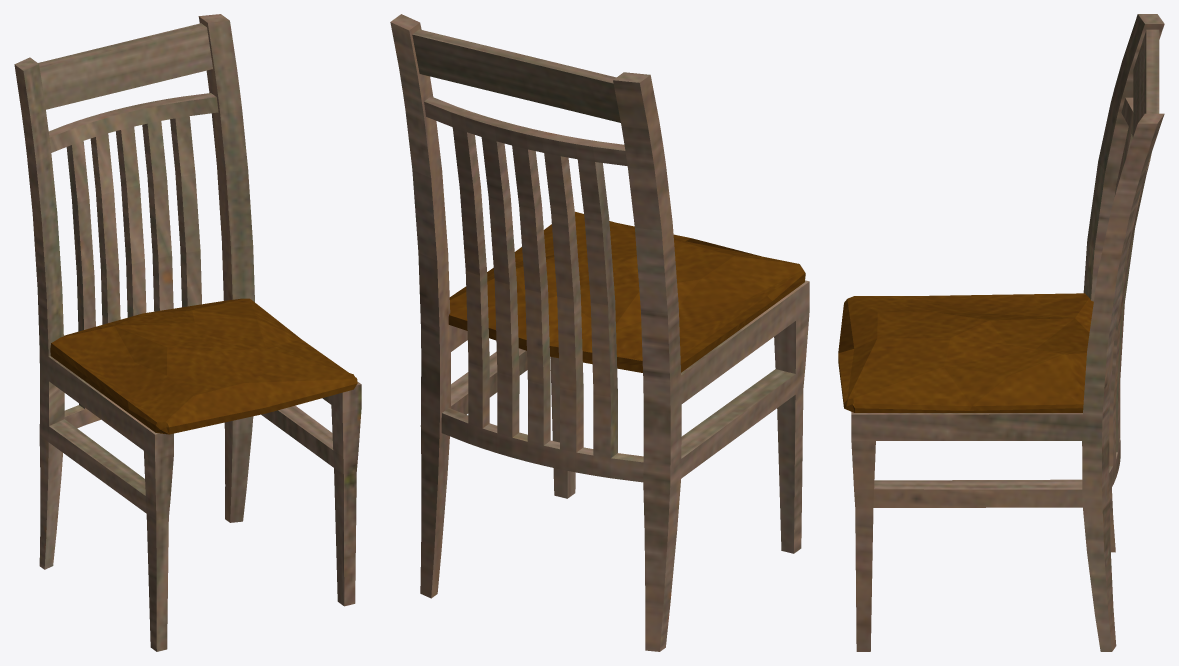
The model's file is Chair4.fbx.
3 views of the same model, side by side, from view 1: azimuth 30°, elevation 25°; view 2: azimuth 150°, elevation 25°; view 3: azimuth 270°, elevation 25° (orthographic). The views are drawn at different scales.
Visible parts, largest first — view 1: Empty_Mesh; view 2: Empty_Mesh; view 3: Empty_Mesh.
Boxes of the visible parts, x1,y1,x2,y2 form: Empty_Mesh: (14,14,361,651); Empty_Mesh: (390,14,809,651); Empty_Mesh: (838,14,1164,651).
Bounding box in the file's own units: 52.5 × 118 × 66.1.
